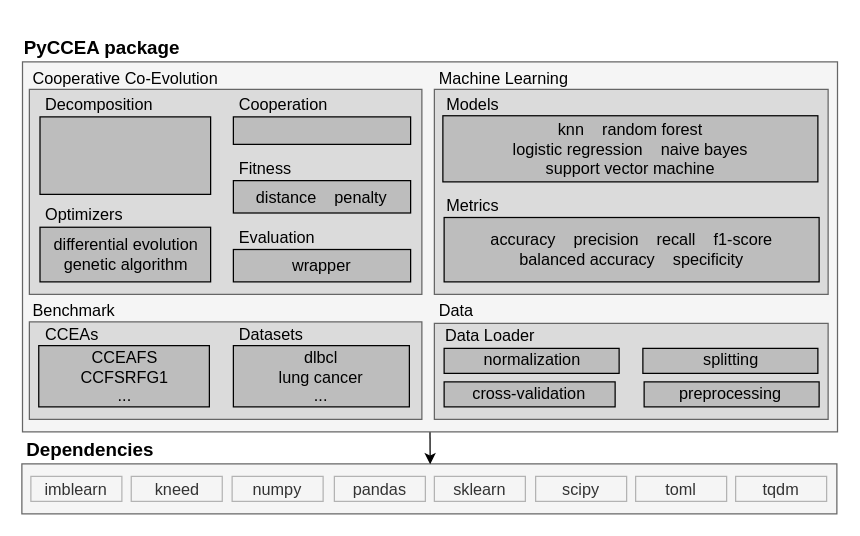
The diagram is 860 pixels wide and 536 high, and some of its shapes have lost their labels. The centre of each missing label's shape, as x and y in pixels:
"best elite random" goes at [321,130].
"clustering dummy random ranking sequential" goes at [125,155].
